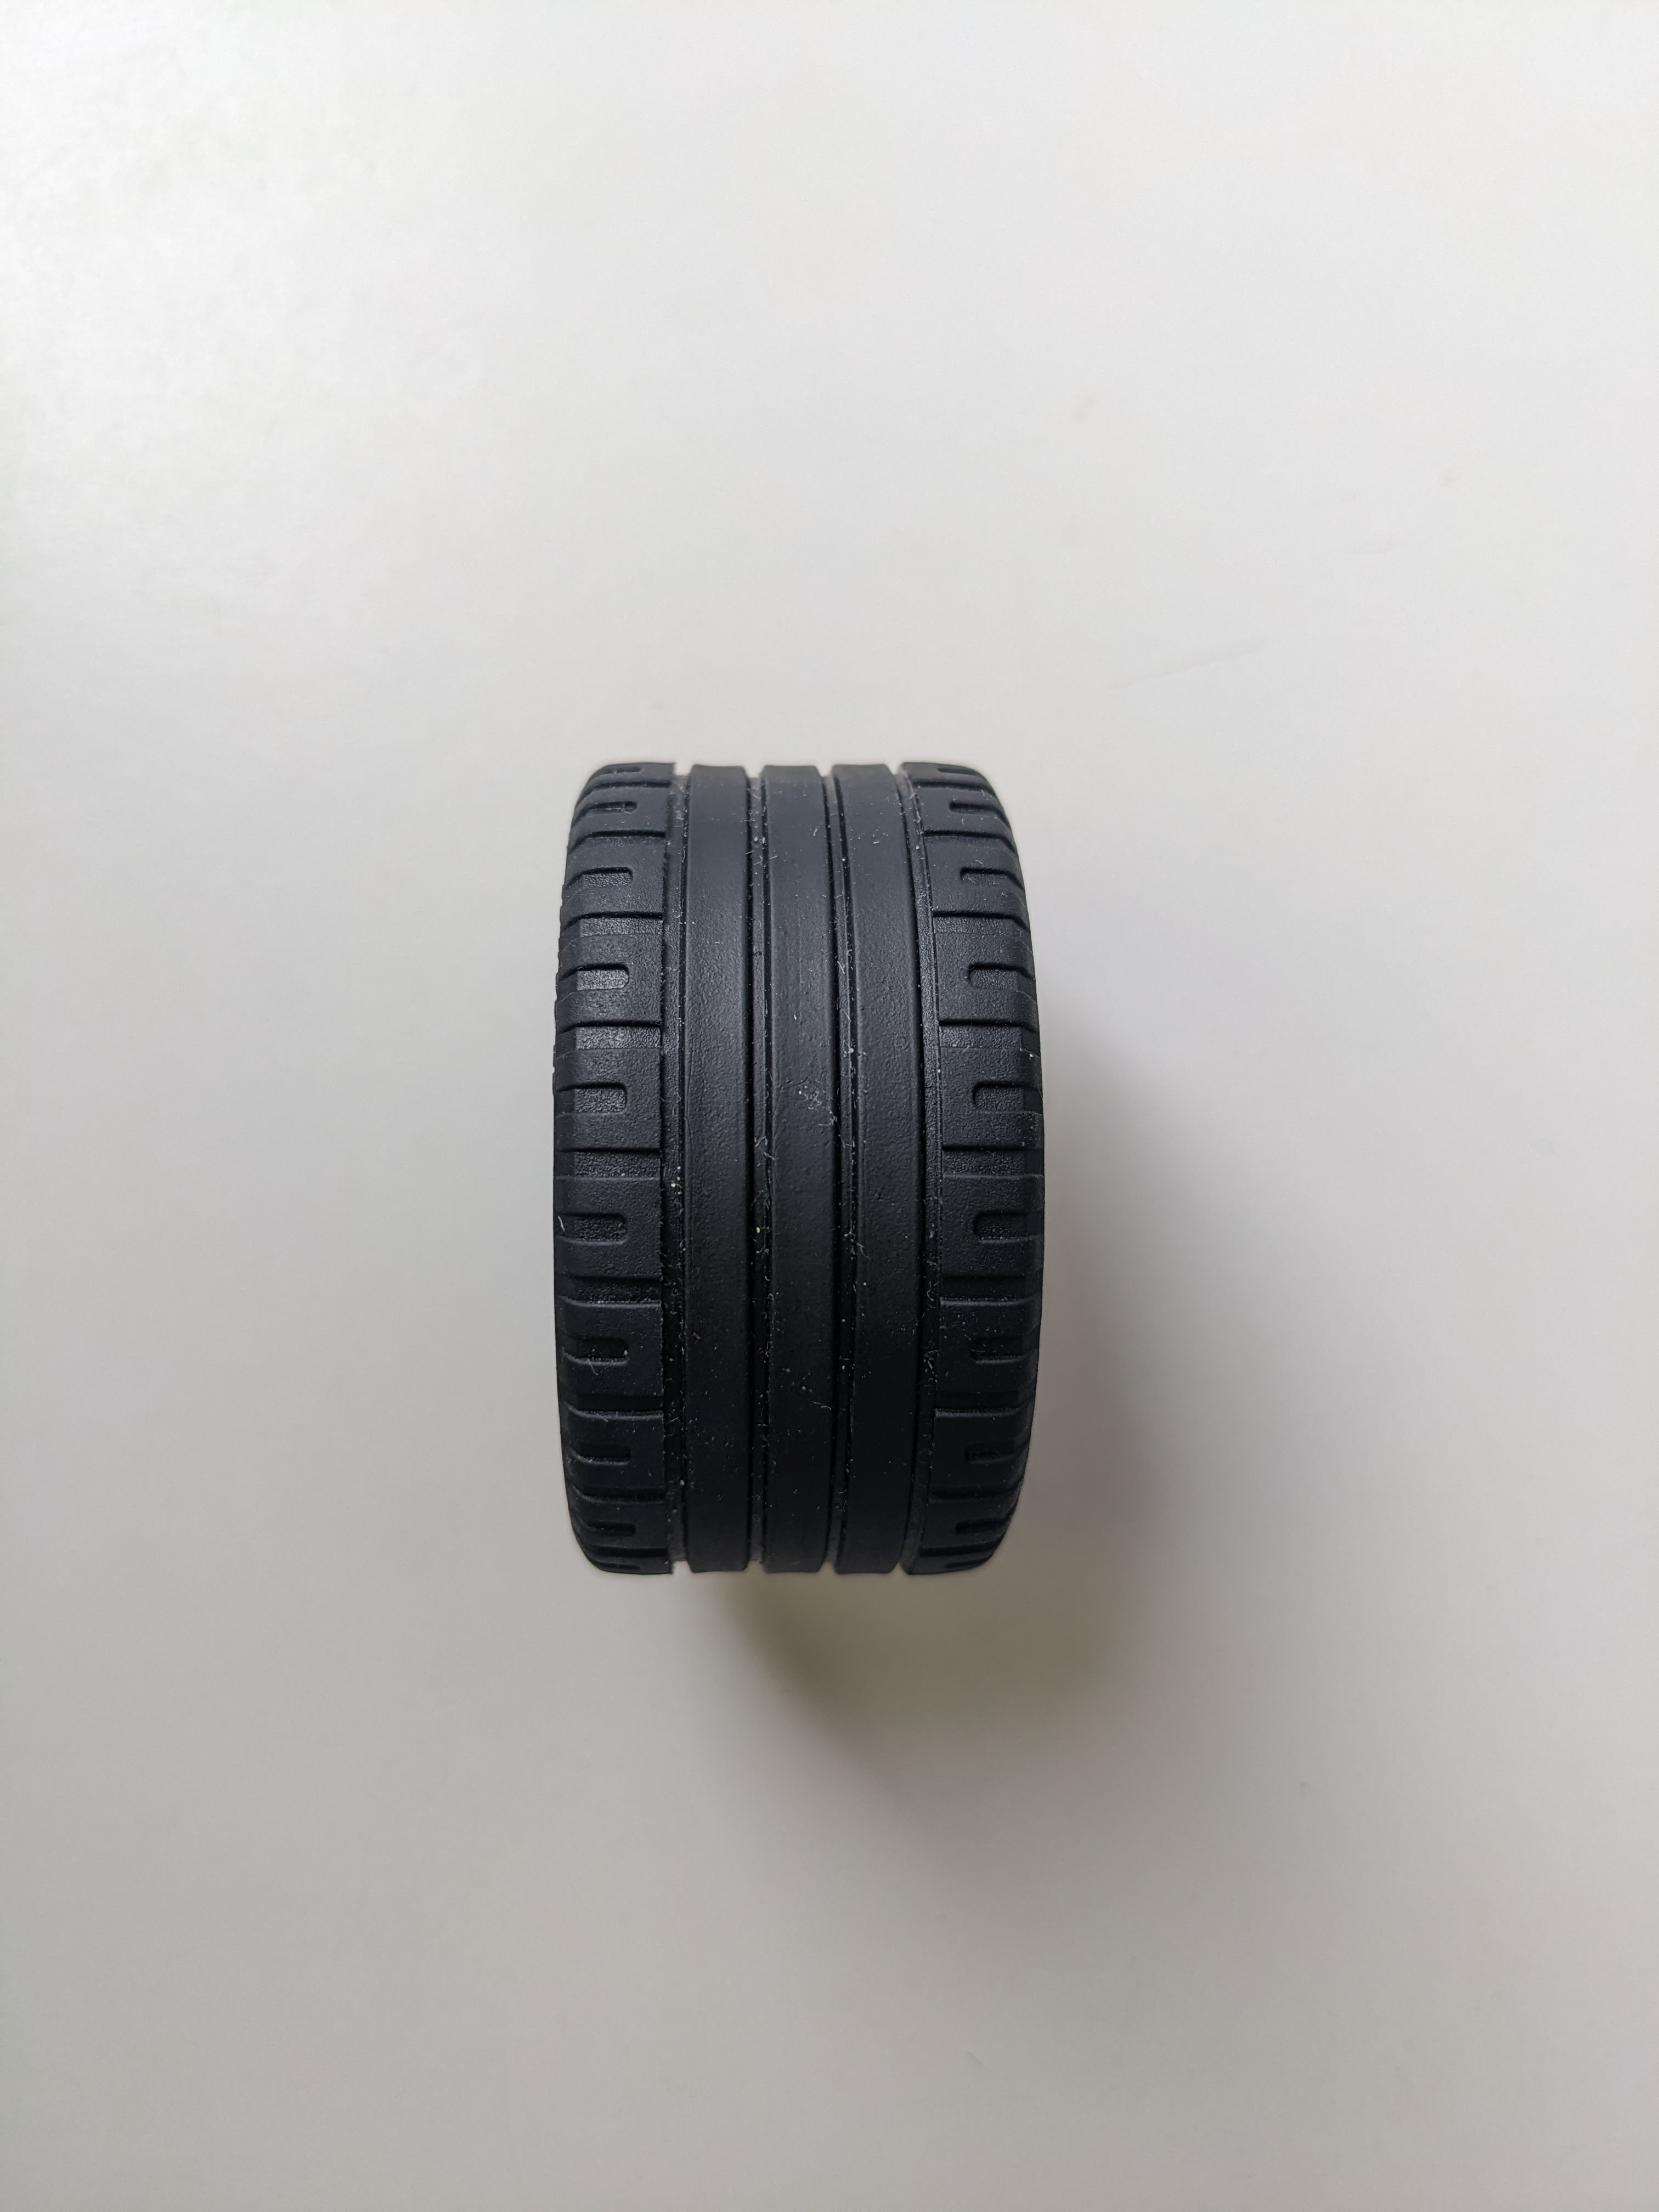Rad: (528, 737, 1061, 1613)
